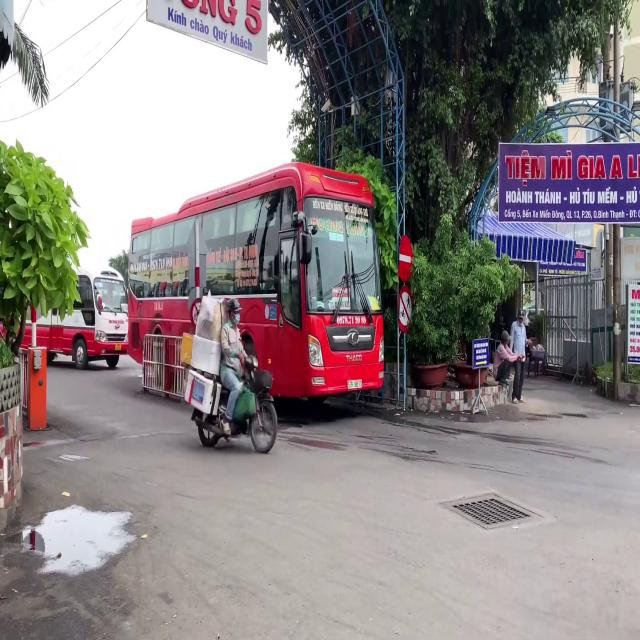bien_trang: (346, 379, 364, 390)
